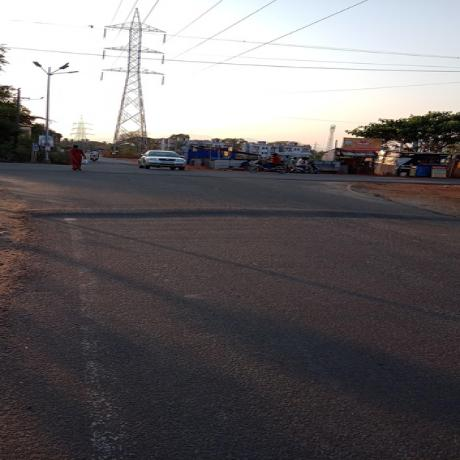Speed Bump: (22, 206, 459, 220)
